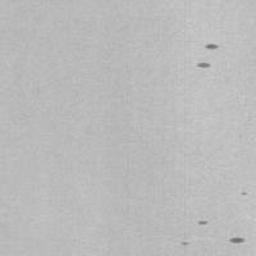Inclusion: (227, 234, 248, 244), (202, 41, 221, 52), (195, 60, 212, 70), (197, 218, 210, 228)
